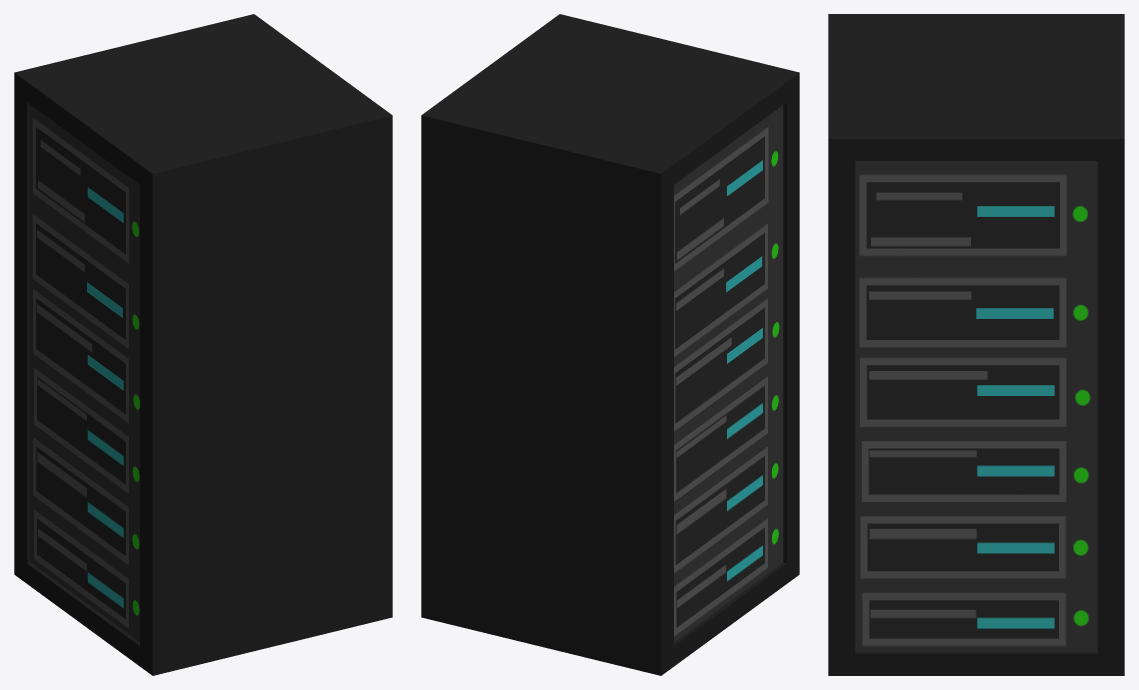
Rendered from ServerRack 1.fbx.
3 renders of one model, left to right at view 1: azimuth 30°, elevation 25°; view 2: azimuth 150°, elevation 25°; view 3: azimuth 270°, elevation 25°, orthographic. The views are drawn at different scales.
Visible parts, largest first — view 1: Cube, Cube.001; view 2: Cube, Cube.001; view 3: Cube.001, Cube.
Boxes of the visible parts, x1,y1,x2,y2 form: Cube: (14, 14, 392, 675); Cube.001: (30, 105, 139, 641); Cube: (421, 14, 799, 675); Cube.001: (674, 105, 783, 641); Cube.001: (855, 161, 1097, 651); Cube: (828, 14, 1124, 675).
Bounding box in the file's own units: 200 × 400 × 200.
